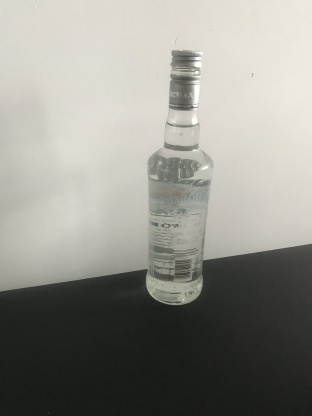nakretka: (167, 47, 203, 111)
